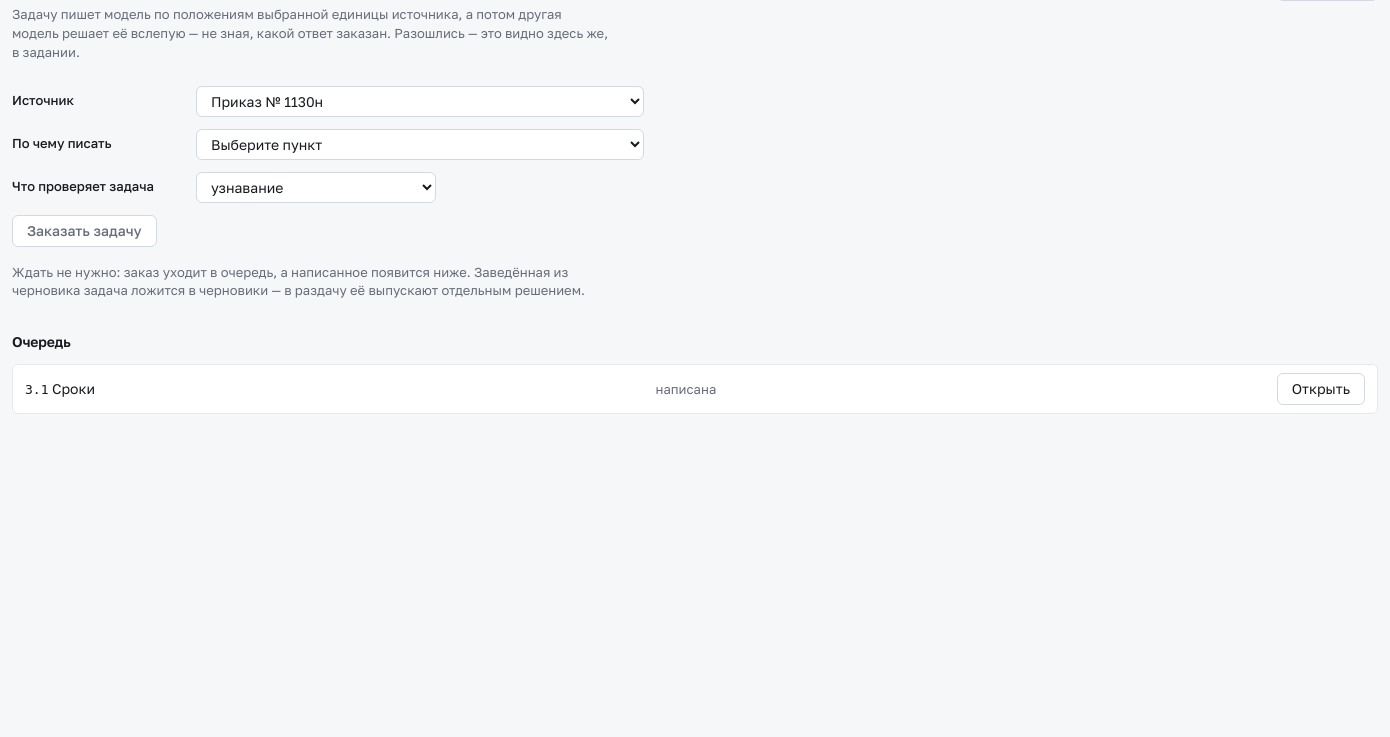
Test: слепая сверка и повтор › несостоявшаяся сверка названа отдельно от несогласия и с причиной
The width and height of the screenshot is (1390, 737).
What coordinates should you click on to do the following:
click the button "Открыть"
I would click on:
 (1321, 389)
Its box is [1277,373,1365,405].
(page scrolled)
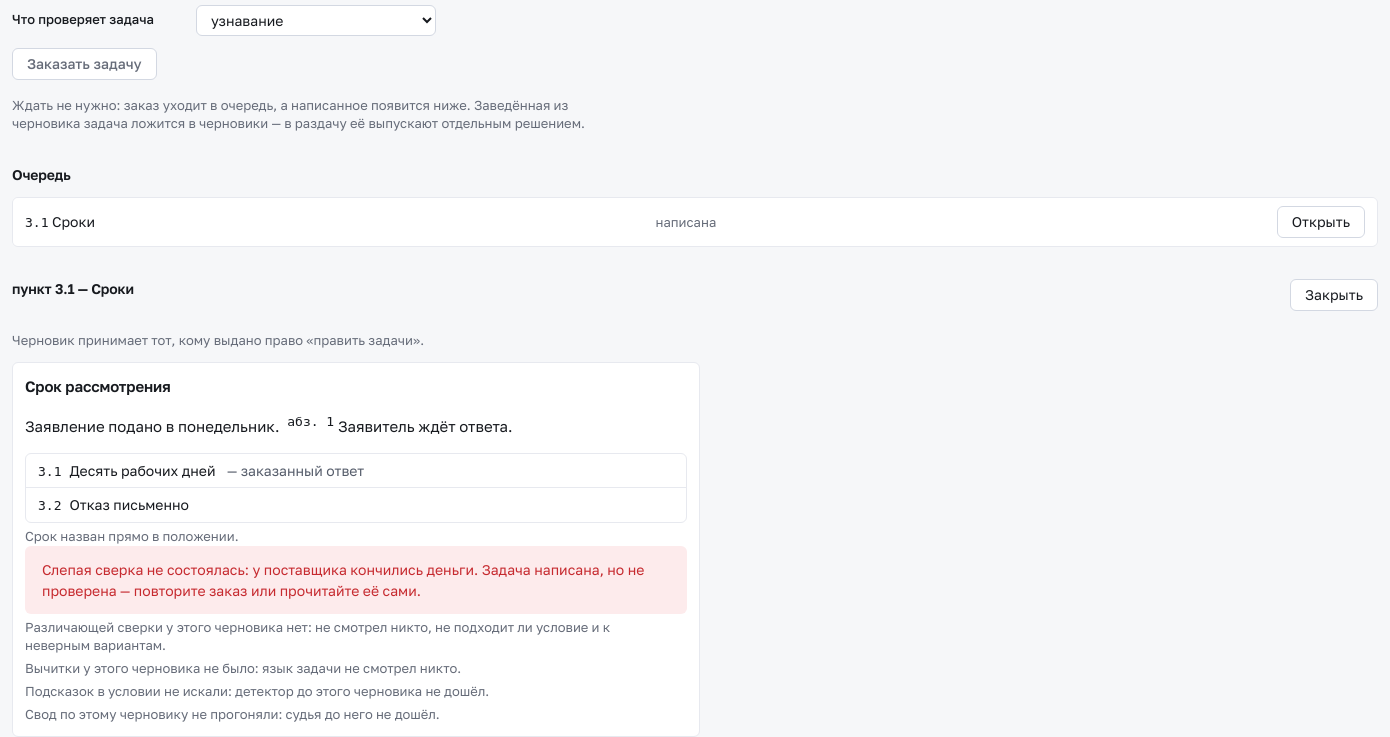
Result: the text "Слепая сверка не состоялась" shows "кончились деньги" at [252,560,474,578]
